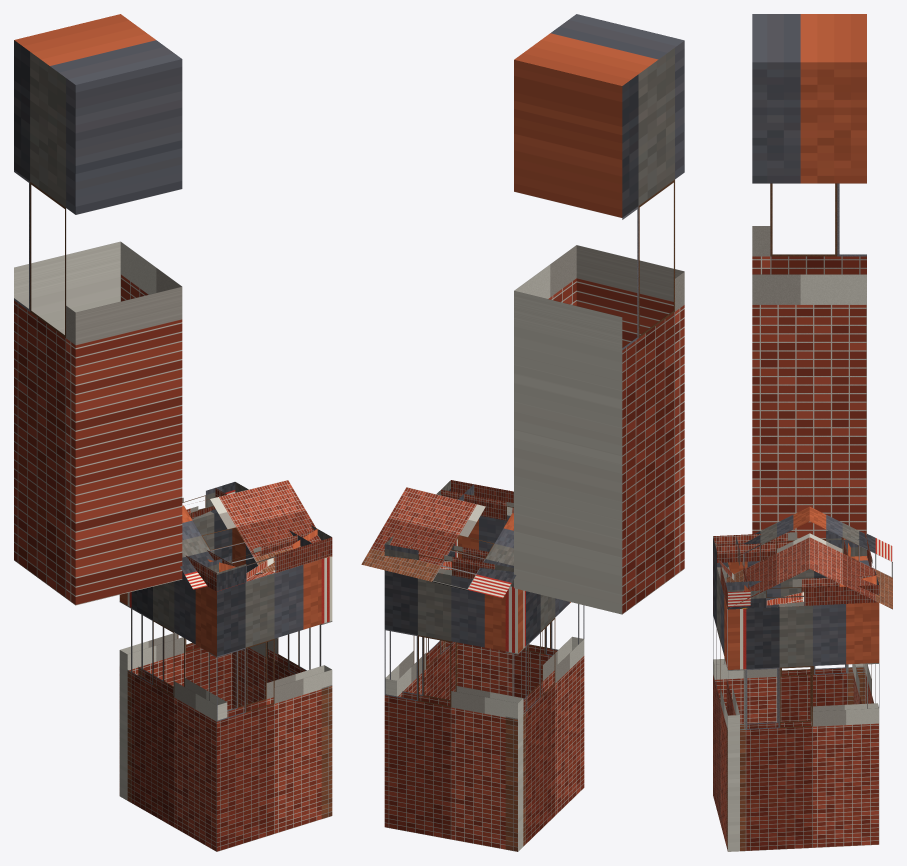
3 views of the same model, side by side, from view 1: azimuth 30°, elevation 25°; view 2: azimuth 150°, elevation 25°; view 3: azimuth 270°, elevation 25° (orthographic). The views are drawn at different scales.
Visible parts, largest first — view 1: 717953197__chimney_0_xb, 717953197__wall_1_xb, 717953197__wall_0_xb, 717953197__wall_3_xb, 717953197_roof_-1_xb, 717953197__wall_2_xb, 717953197__cornice_1, 717953197__cornice_0; view 2: 717953197__chimney_0_xb, 717953197__wall_3_xb, 717953197__wall_0_xb, 717953197_roof_1_xb, 717953197__wall_1_xb, 717953197__wall_2_xb, 717953197__cornice_1, 717953197__cornice_3; view 3: 717953197__chimney_0_xb, 717953197__wall_2_xb, 717953197__wall_0_xb, 717953197__wall_1_xb, 717953197_roof_1_xb, 717953197_roof_-1_xb, 717953197__cornice_2, 717953197__cornice_0, 717953197__cornice_1, 717953197__wall_3_xb.
Boxes of the visible parts, x1,y1,x2,y2 form: 717953197__chimney_0_xb: (14,14,182,605); 717953197__wall_1_xb: (209,559,332,851); 717953197__wall_0_xb: (119,572,227,851); 717953197__wall_3_xb: (119,509,232,800); 717953197_roof_-1_xb: (180,480,332,589); 717953197__wall_2_xb: (232,528,332,818); 717953197__cornice_1: (202,529,332,591); 717953197__cornice_0: (182,550,235,591); 717953197__chimney_0_xb: (514,14,684,614); 717953197__wall_3_xb: (384,569,523,851); 717953197__wall_0_xb: (505,586,584,851); 717953197_roof_1_xb: (361,487,516,598); 717953197__wall_1_xb: (445,515,584,698); 717953197__wall_2_xb: (385,538,457,699); 717953197__cornice_1: (441,480,513,520); 717953197__cornice_3: (384,535,494,579); 717953197__chimney_0_xb: (752,14,866,542); 717953197__wall_2_xb: (726,602,879,851); 717953197__wall_0_xb: (713,561,865,723); 717953197__wall_1_xb: (713,554,739,851); 717953197_roof_1_xb: (809,507,892,609); 717953197_roof_-1_xb: (726,507,809,609); 717953197__cornice_2: (725,575,879,609); 717953197__cornice_0: (713,530,866,562); 717953197__cornice_1: (713,536,750,608); 717953197__wall_3_xb: (852,556,879,708).
Size of the model in its own units: 0.3425 by 1.05 by 0.2351.
1 material, 1 textured.
